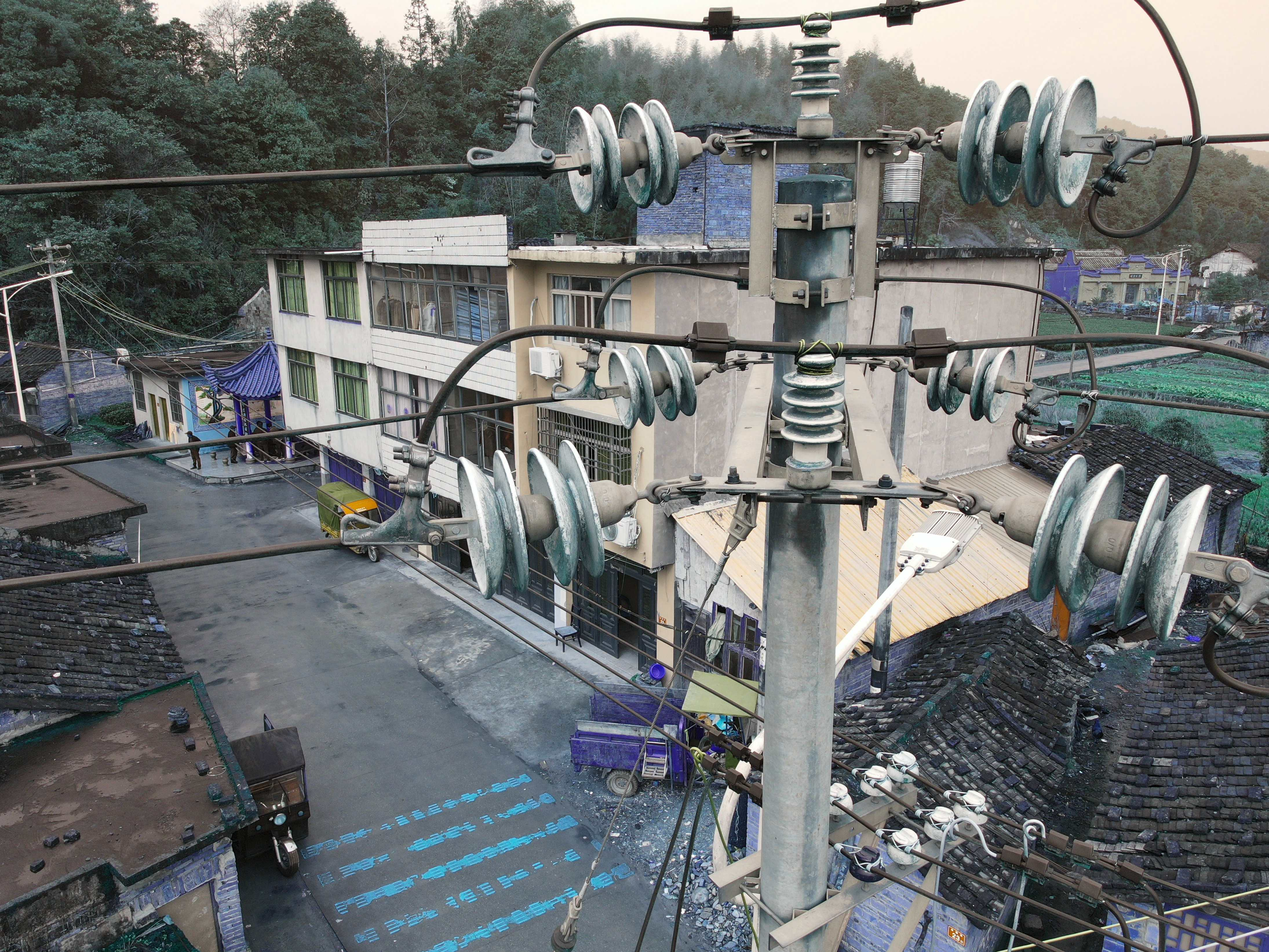severe_soiling_no_discharge_whole: (995, 445, 1216, 641), (452, 445, 639, 599), (932, 73, 1100, 209), (561, 98, 703, 214), (779, 350, 849, 489), (604, 342, 715, 429), (915, 347, 1018, 423), (790, 16, 842, 139), (886, 827, 923, 865), (883, 749, 922, 785), (924, 808, 960, 842)
